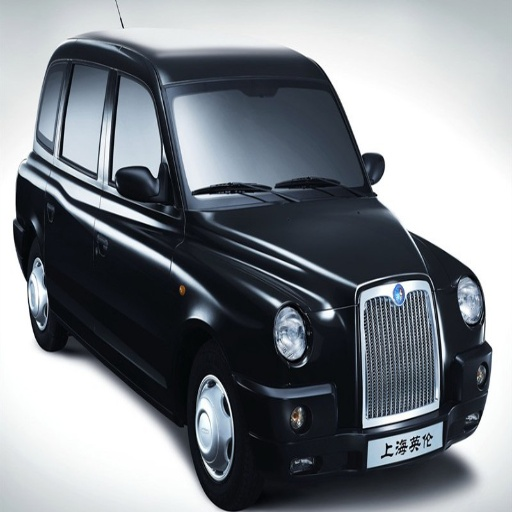front_bumper: (235, 275, 491, 472)
front_right_door: (91, 57, 185, 395)
front_right_light: (274, 305, 308, 359)
hood: (209, 189, 426, 310)
